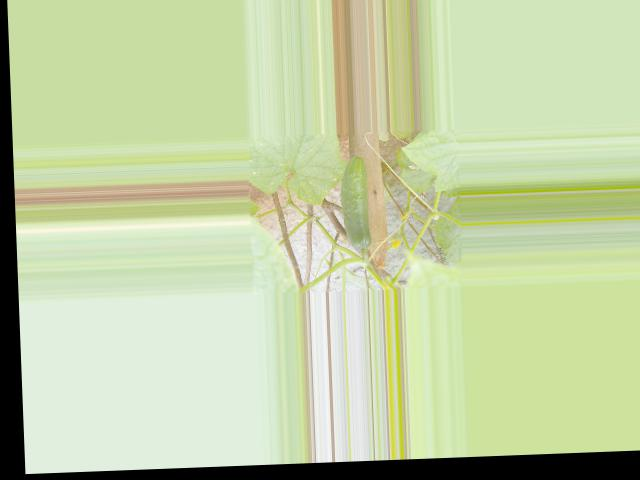cucumber: (339, 155, 372, 250)
